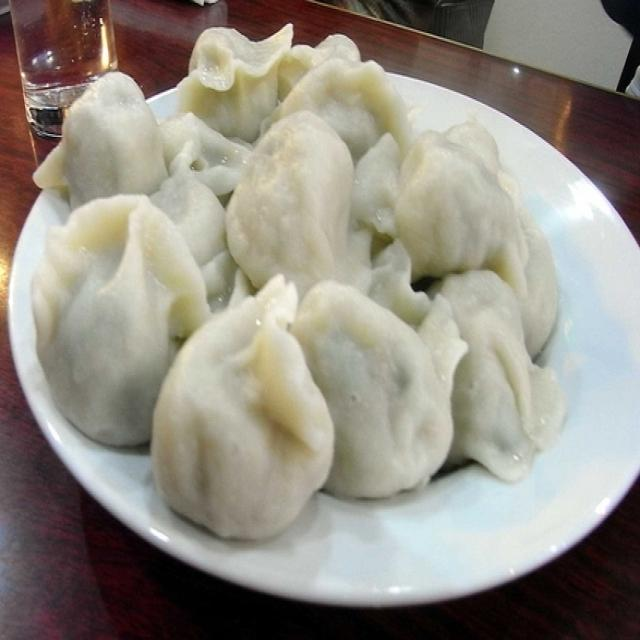带馅早点: (34, 12, 581, 548)
